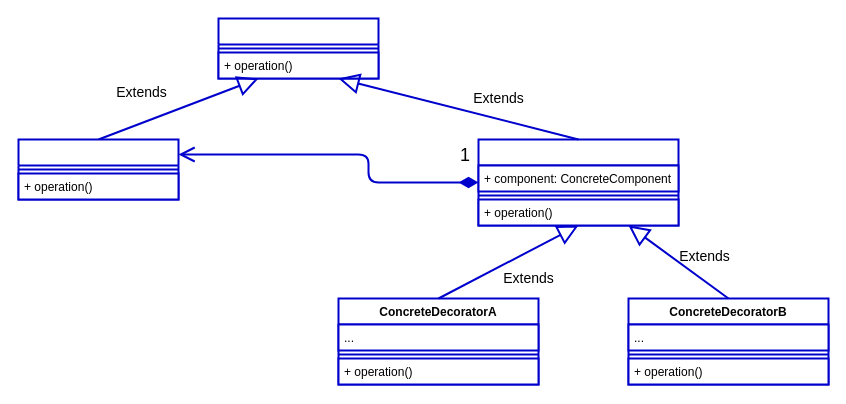
This 846x404 diagram has some shape labels left out. Here are the shapes that lost their labels. From the top down, the box of each, then its label:
(217, 17, 379, 79): Component
(17, 138, 179, 200): ConcreteComponent
(477, 138, 679, 226): Decorator
